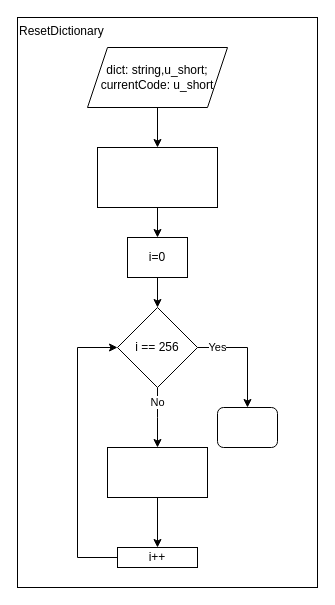
This 335x605 diagram has some shape labels left out. Each missing label, with the centre of its shape:
"currentCode = 256" goes at [157,177].
"dict[string(1, i)] = i" goes at [157,472].
"End" goes at [247,427].
